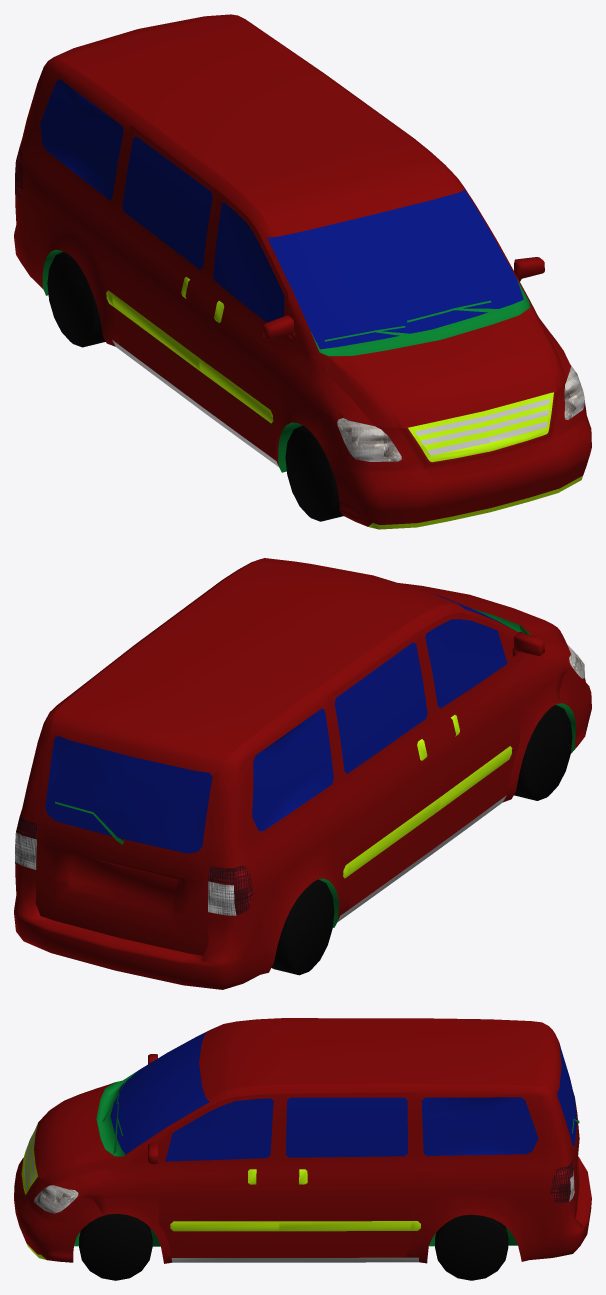
The model's file is car_02.fbx.
The picture shows the model from 3 angles, top to bottom: view 1: azimuth 30°, elevation 25°; view 2: azimuth 150°, elevation 25°; view 3: azimuth 270°, elevation 25°; orthographic projection. The views are drawn at different scales.
Visible parts, largest first — view 1: CAR2; view 2: CAR2; view 3: CAR2.
Part boxes in pixels (left/top/right/bottom): CAR2: left=14, top=14, right=591, bottom=529; CAR2: left=14, top=558, right=591, bottom=989; CAR2: left=14, top=1018, right=591, bottom=1280.
Bounding box in the file's own units: 3213 × 2804 × 7729.
